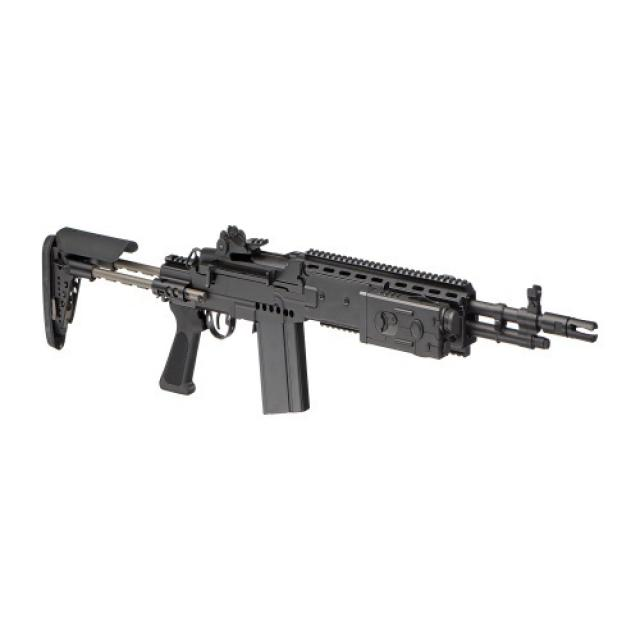Gun: (28, 179, 611, 483)
